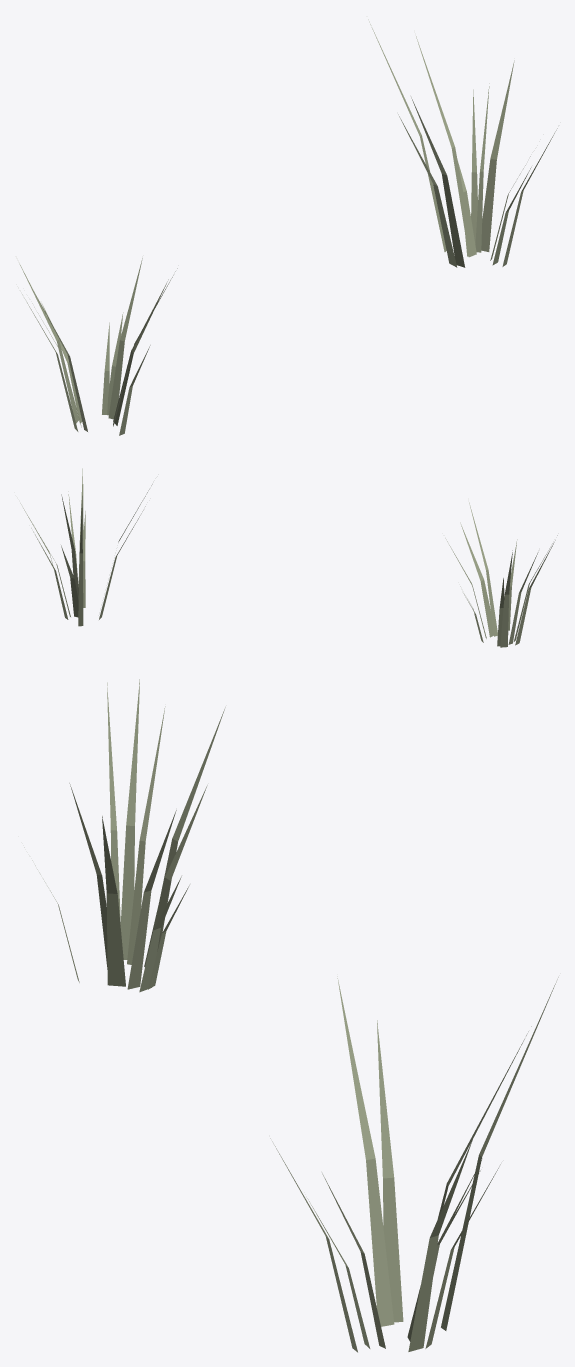
Rendered from AE_Grass_4_0.fbx.
3 views of the same model, one above another, from view 1: azimuth 30°, elevation 25°; view 2: azimuth 150°, elevation 25°; view 3: azimuth 270°, elevation 25° (orthographic). The views are drawn at different scales.
Visible parts, largest first — view 1: AE_Grass_4_0_LOD0; view 2: AE_Grass_4_0_LOD0; view 3: AE_Grass_4_0_LOD0.
Part boxes in pixels (box(x1,y1,x2,y2)): AE_Grass_4_0_LOD0: box(19, 19, 557, 435); AE_Grass_4_0_LOD0: box(20, 468, 557, 647); AE_Grass_4_0_LOD0: box(24, 679, 558, 1352).
Size of what is drawn, in the model's own units: 273 by 93.14 by 141.
